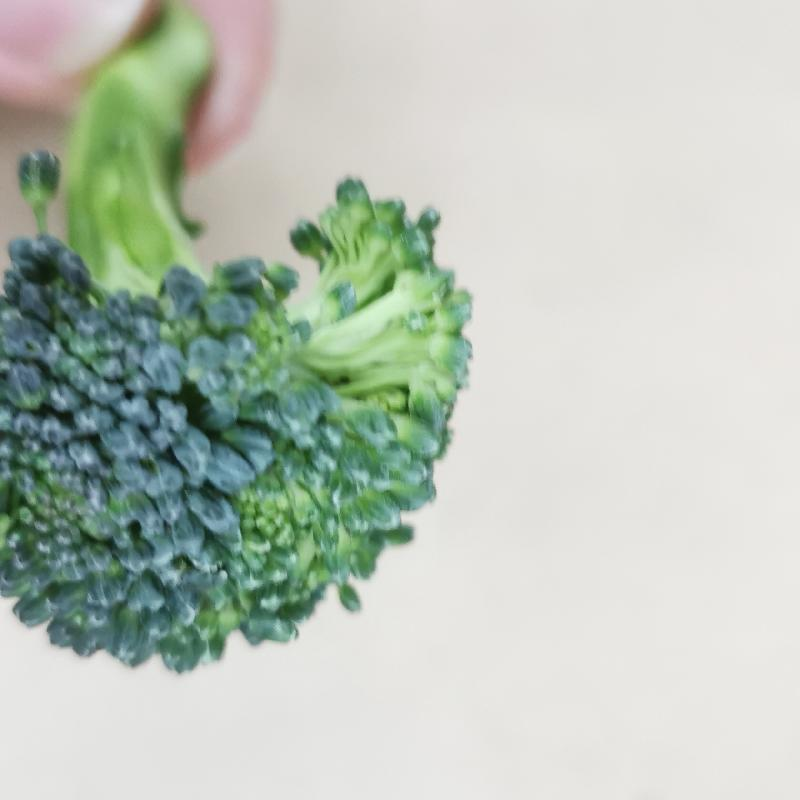broccoli: (10, 5, 477, 673)
